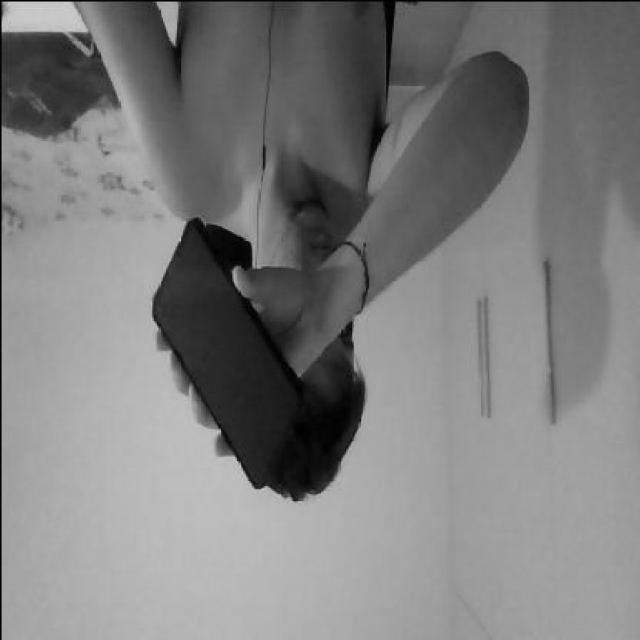fake: (153, 216, 302, 490)
